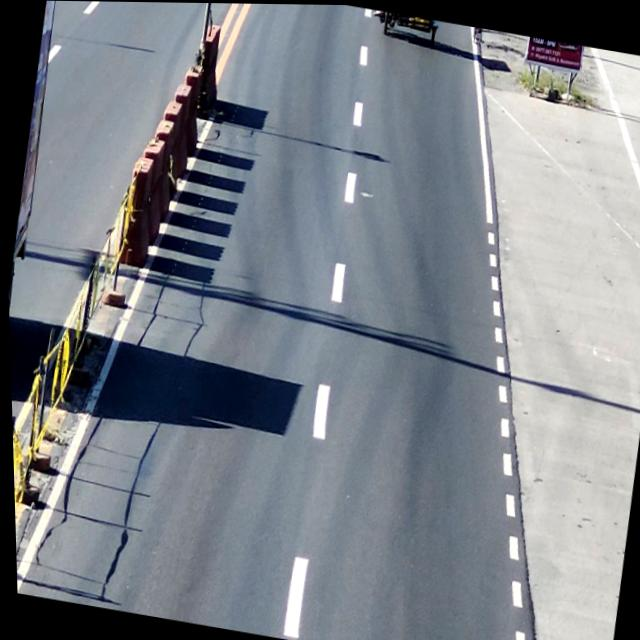Tricycle: (373, 9, 443, 47)
